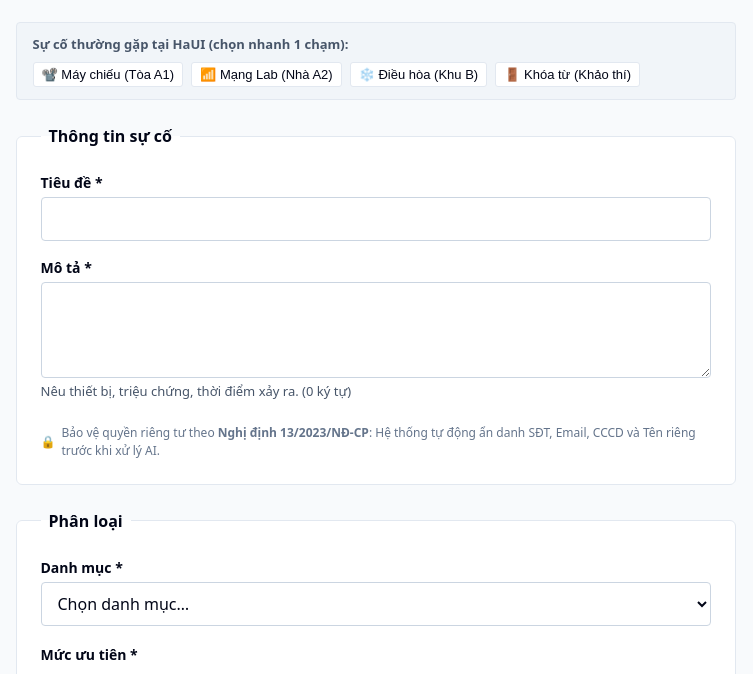
Test case: TicketCreate › AI suggestion needs valid title+description, auto-applies when confident
Type "Mất kết nối WiFi" into the field labelled "Tiêu đề *" at [376, 219], box [40, 197, 710, 241]
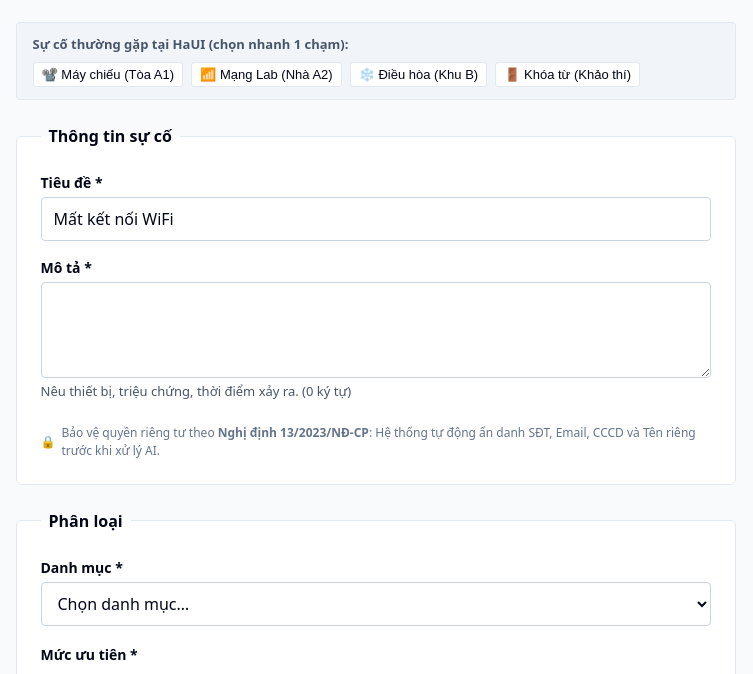
Type "WiFi tầng 3 không kết nối được" into the text box labelled "Mô tả *" at [376, 330], box [40, 282, 710, 378]
(page scrolled)
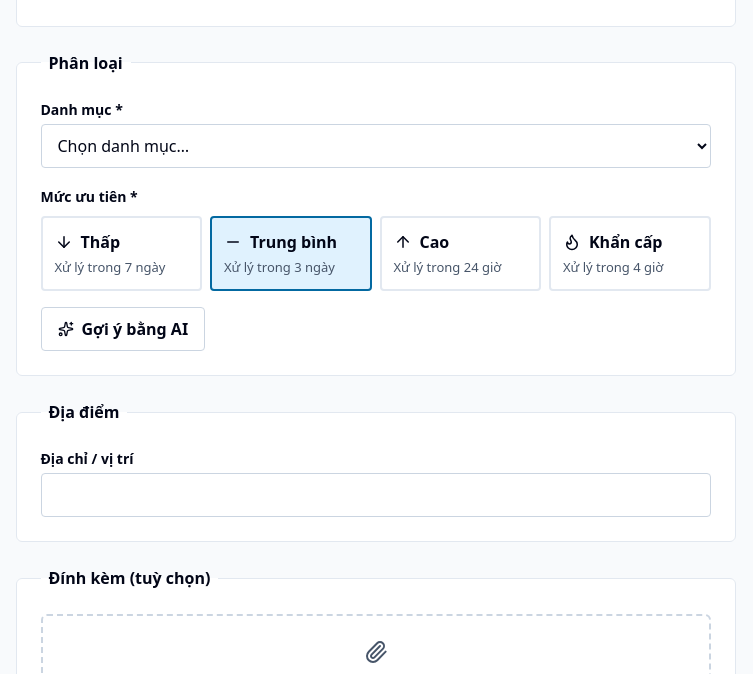
Now the button "Gợi ý bằng AI" is enabled
Click the button "Gợi ý bằng AI" at [123, 329], box [40, 307, 205, 351]
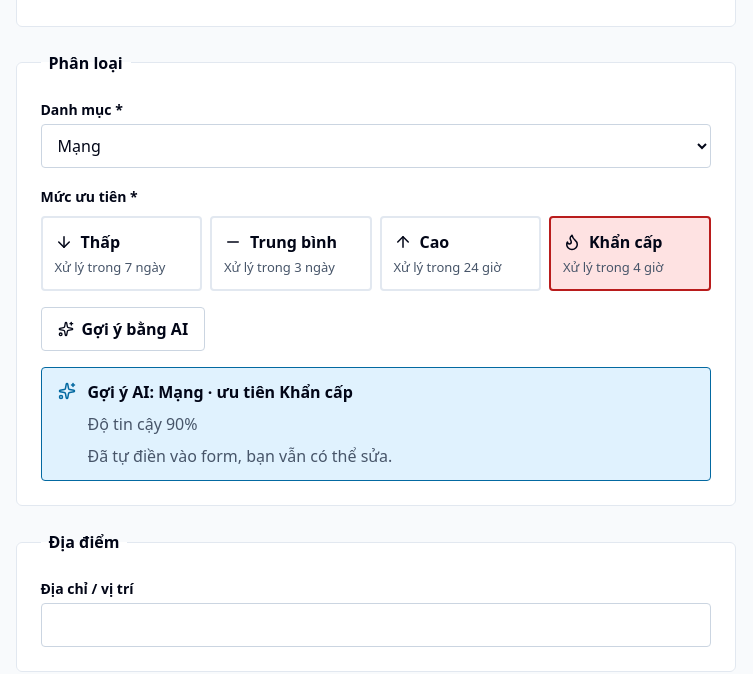
Now the text "Đã tự điền vào form, bạn vẫn có thể sửa." is shown, box [88, 444, 392, 468]
Now the dropdown labelled "Danh mục *" shows "Mạng", box [40, 124, 710, 168]
